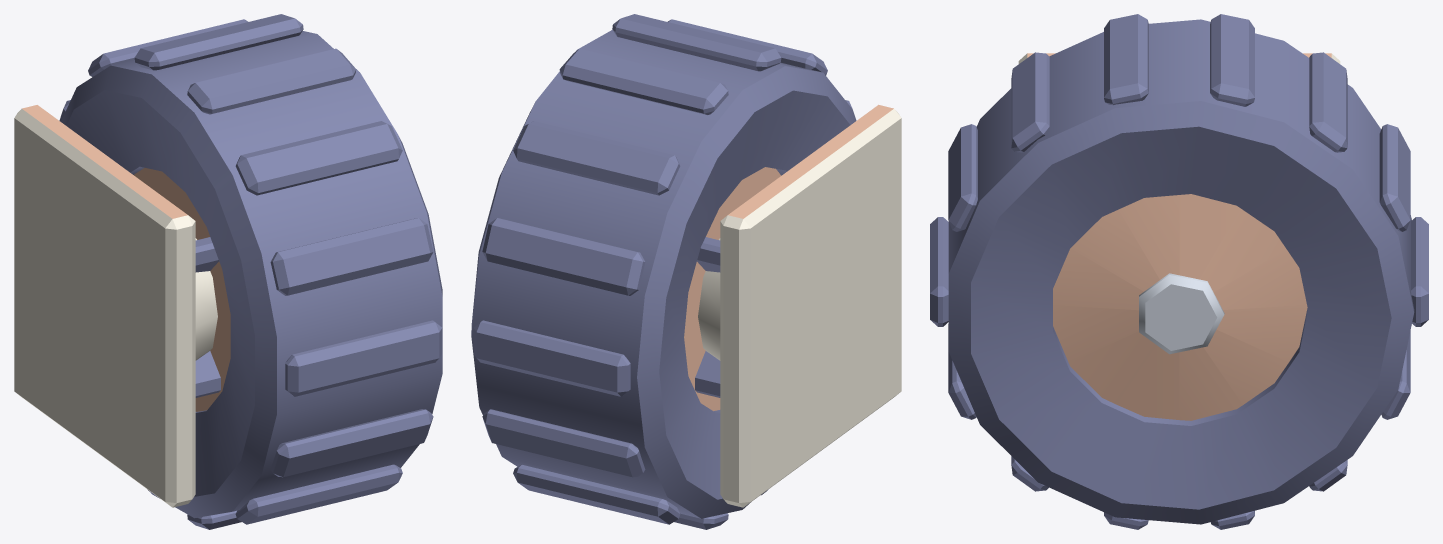
The model's file is R4M_WheelM_Side_Offroad_LOD1.fbx.
3 views of the same model, side by side, from view 1: azimuth 30°, elevation 25°; view 2: azimuth 150°, elevation 25°; view 3: azimuth 270°, elevation 25° (orthographic).
Parts seen in each view (by area): view 1: R4M_WheelM_Side_Offroad_LOD1; view 2: R4M_WheelM_Side_Offroad_LOD1; view 3: R4M_WheelM_Side_Offroad_LOD1.
Part boxes in pixels (x1,y1,x2,y2): R4M_WheelM_Side_Offroad_LOD1: (14,14,442,529); R4M_WheelM_Side_Offroad_LOD1: (471,14,901,529); R4M_WheelM_Side_Offroad_LOD1: (930,14,1428,529).
Bounding box in the file's own units: 0.452 × 0.7665 × 0.776.
